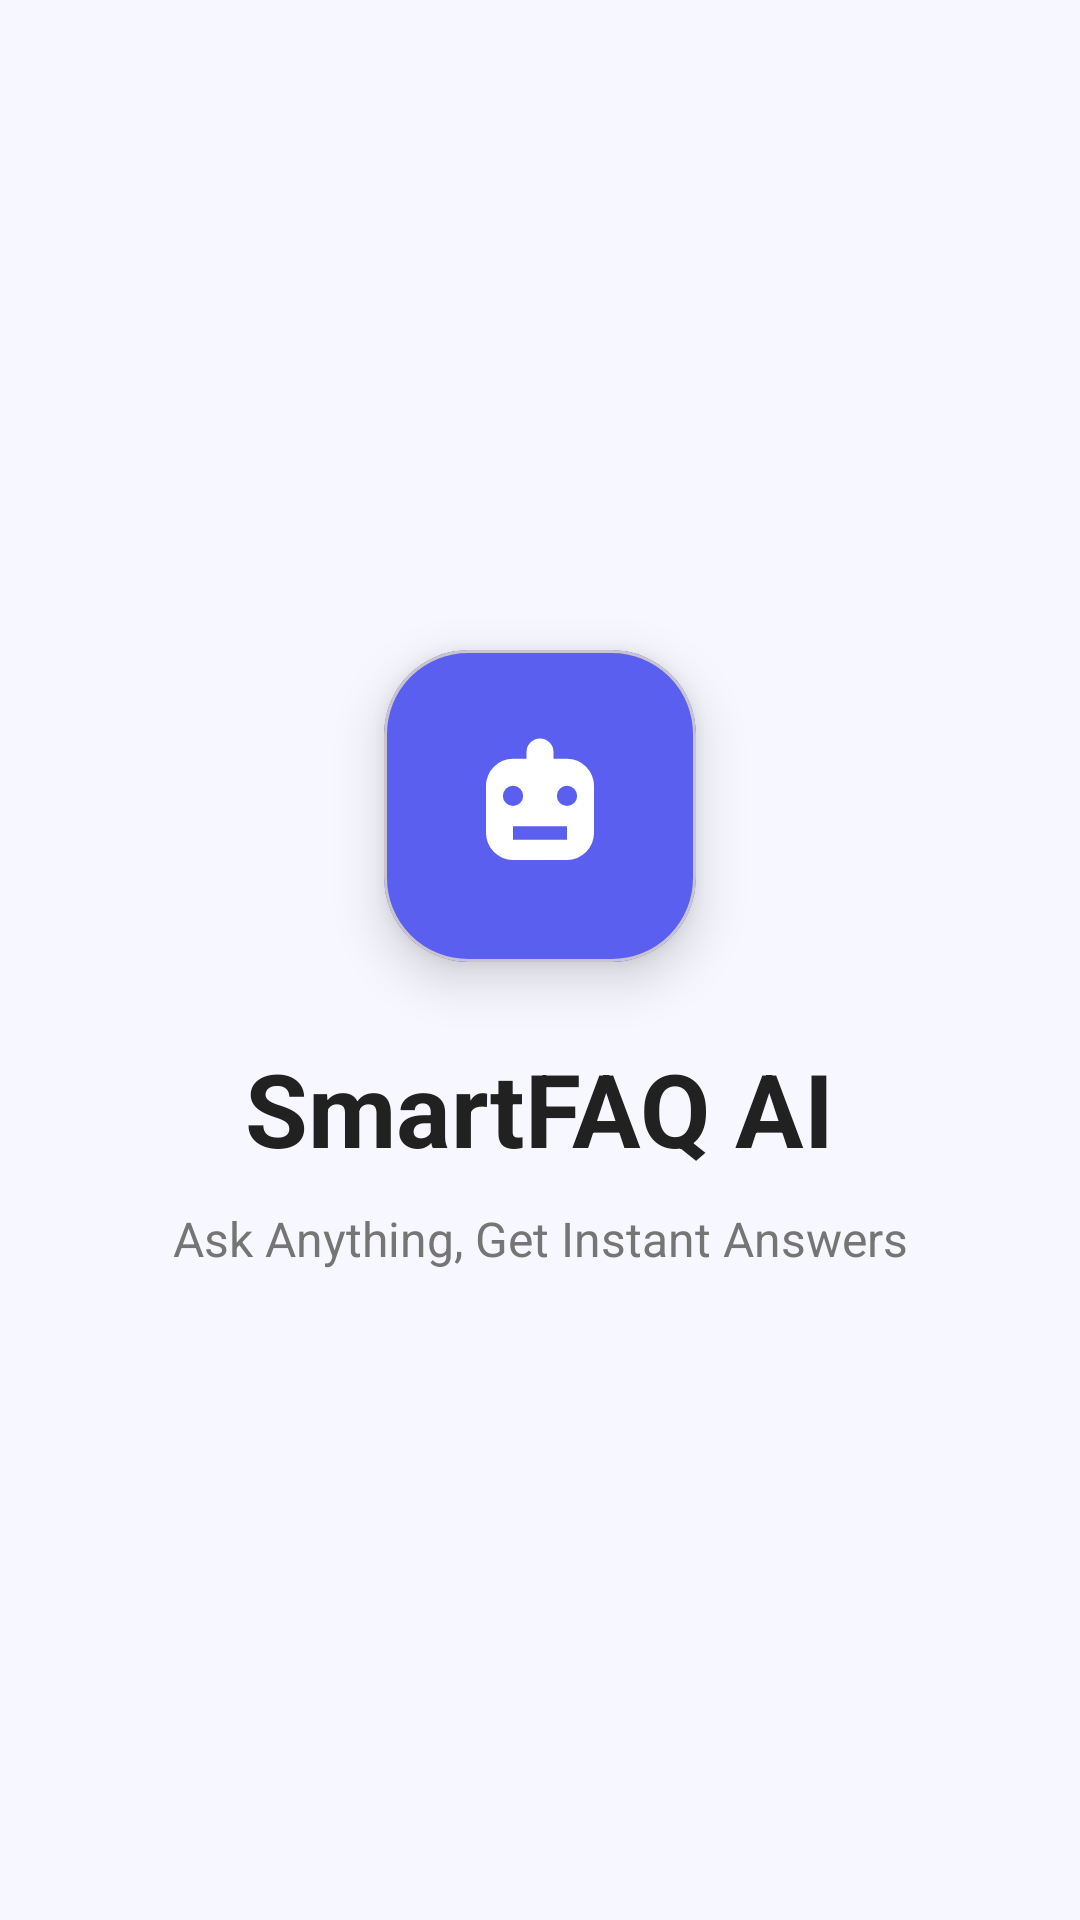

Screen size 1080x1920. Icon name, then its box in pixels as (x1, y1, x2, y2):
smart ai: (486, 738, 594, 860)
